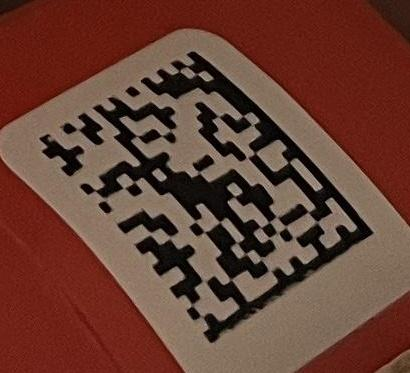datamatrix: (40, 50, 375, 345)
